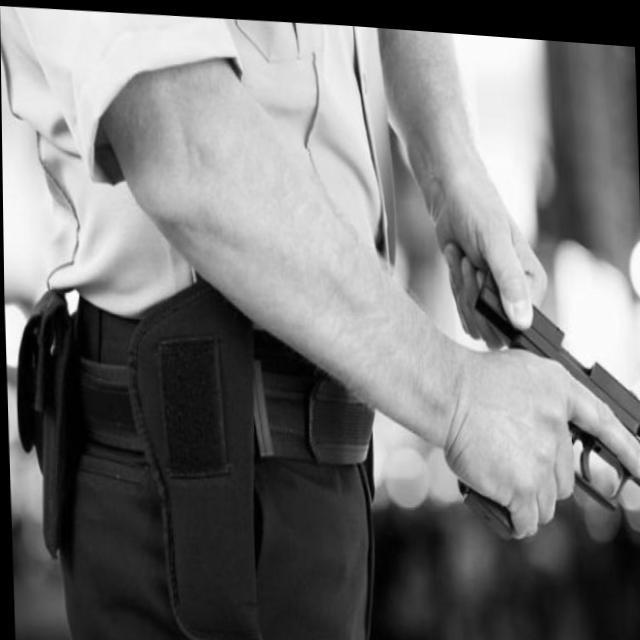weapon: (448, 250, 640, 540)
